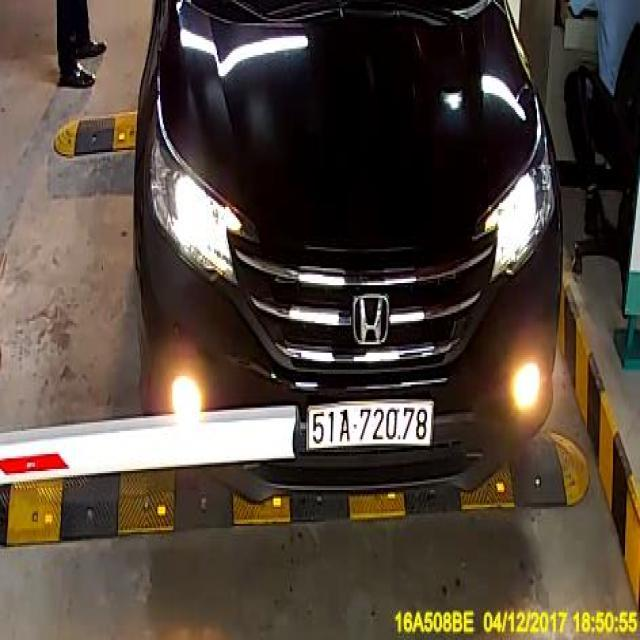bien_so_oto: (305, 398, 435, 453)
